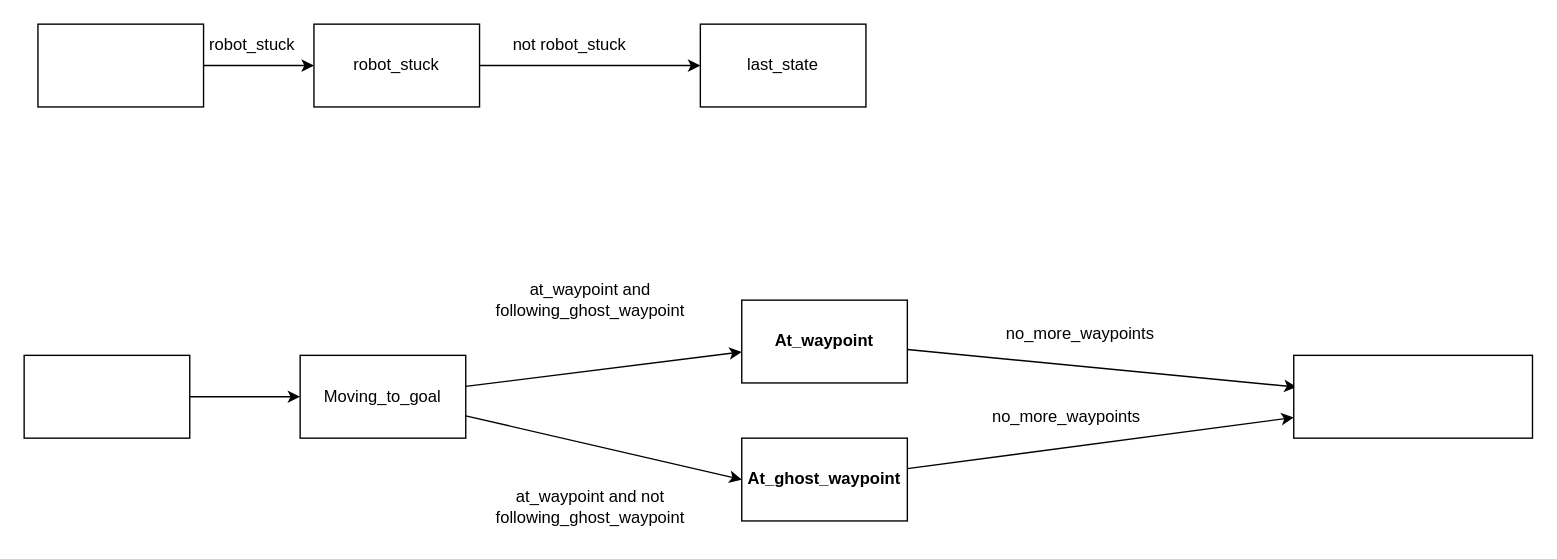
This 1557x559 diagram has some shape labels left out. Here are the shapes that lost their labels. From the top down, the box of each, then its label:
(37, 23, 204, 107): Any state
(23, 354, 190, 438): Init
(1292, 354, 1532, 438): Mission_accomplished
